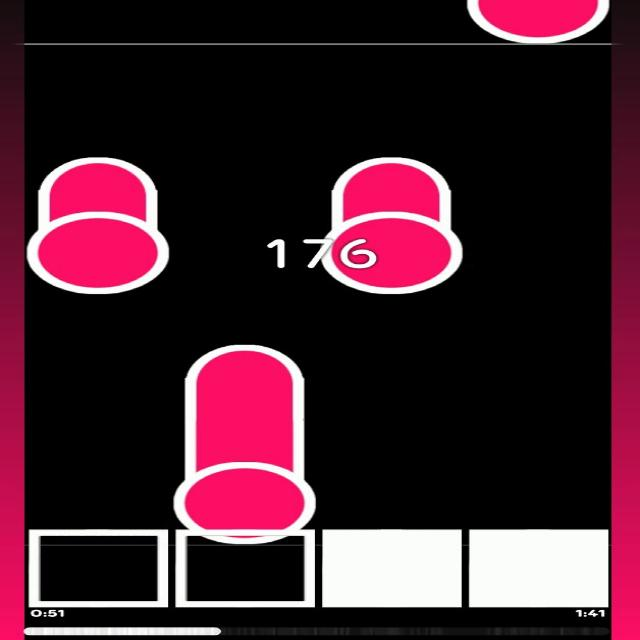end_hold: (184, 332, 303, 382), (41, 145, 155, 194), (334, 147, 451, 194)
start_hold: (174, 443, 318, 545), (324, 198, 464, 295), (31, 198, 168, 295), (458, 1, 616, 43)
